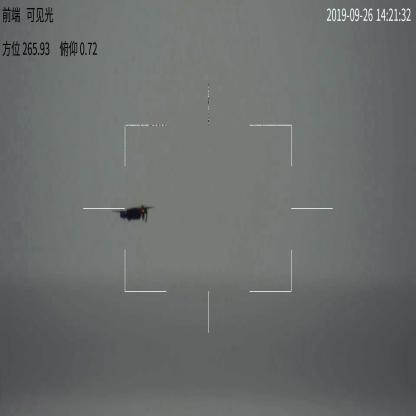uav: (113, 200, 155, 226)
